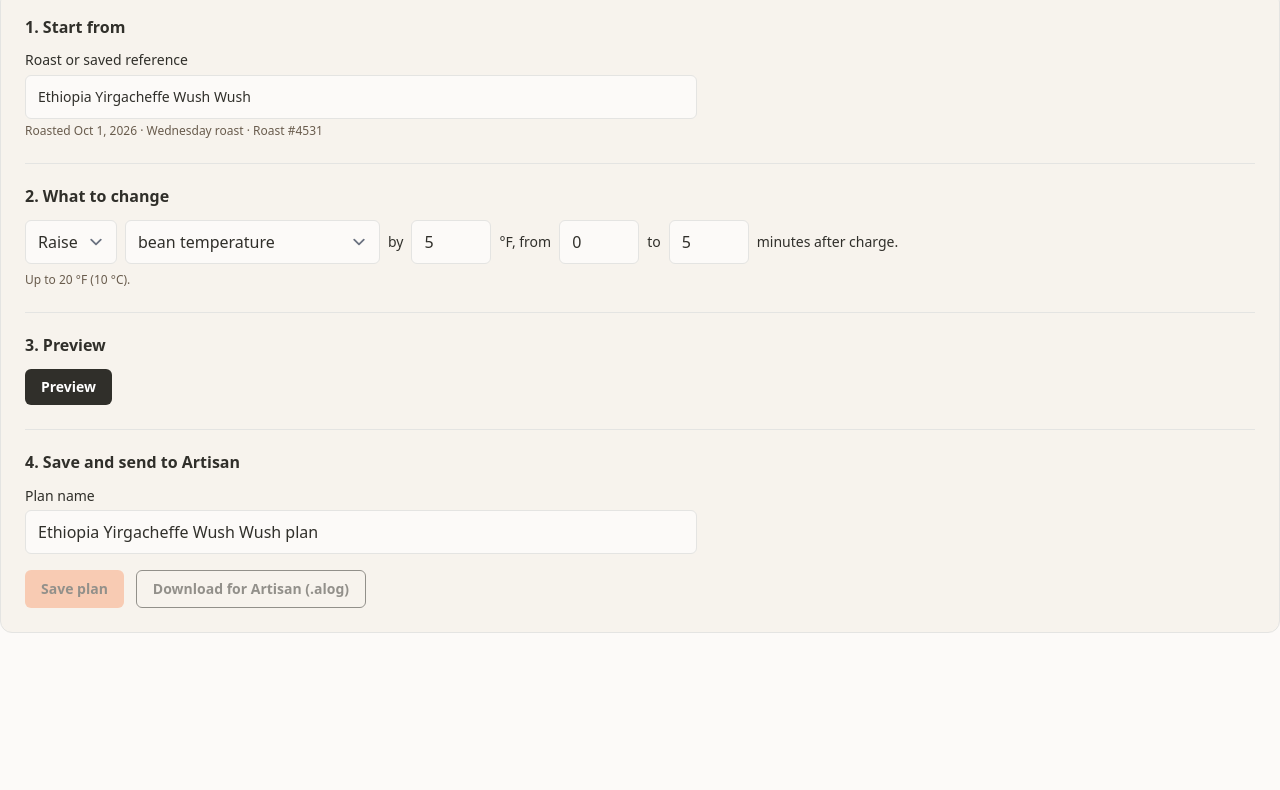
Test: planning from a roast › asks for a new preview once the change is edited, but not when only the name is
Click the button "Preview": [69, 387] box [25,369,112,405]
(page scrolled)
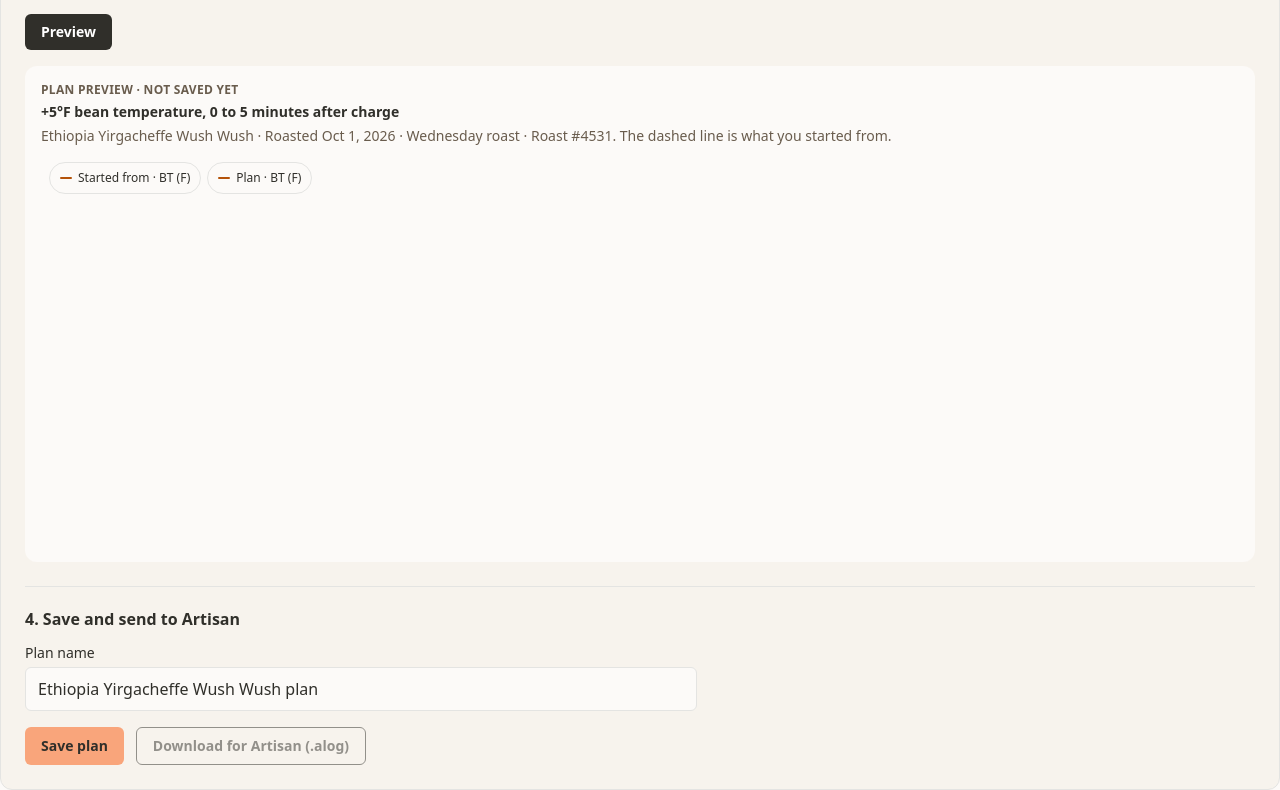
Replace the text in the field labelled "Plan name" with "Wush Wush, hotter through drying": [361, 689] box [25,667,697,711]
(page scrolled)
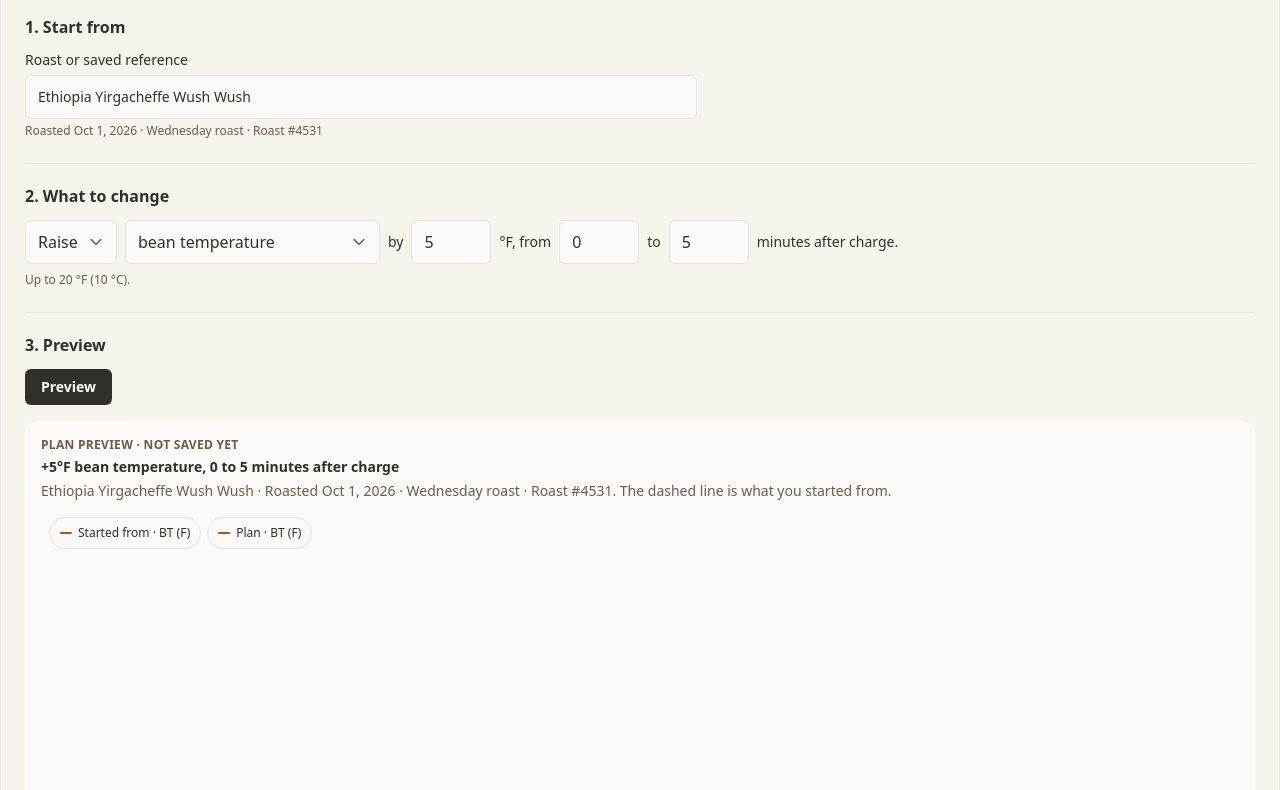
Select "Lower" in the dropdown named "Raise or lower": [71, 242] box [25,220,117,264]
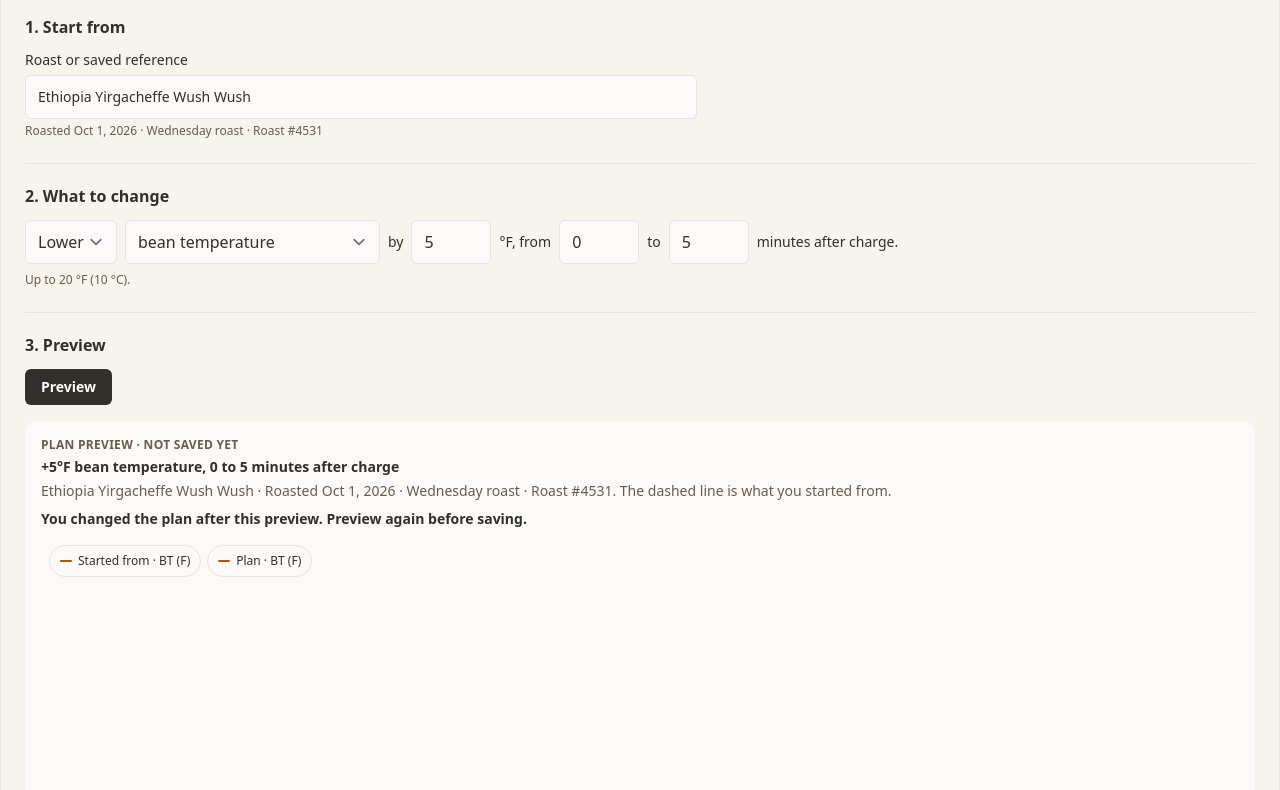
Now the text "You changed the plan after this preview. Preview again before saving." is shown, box [41,509,527,528]
